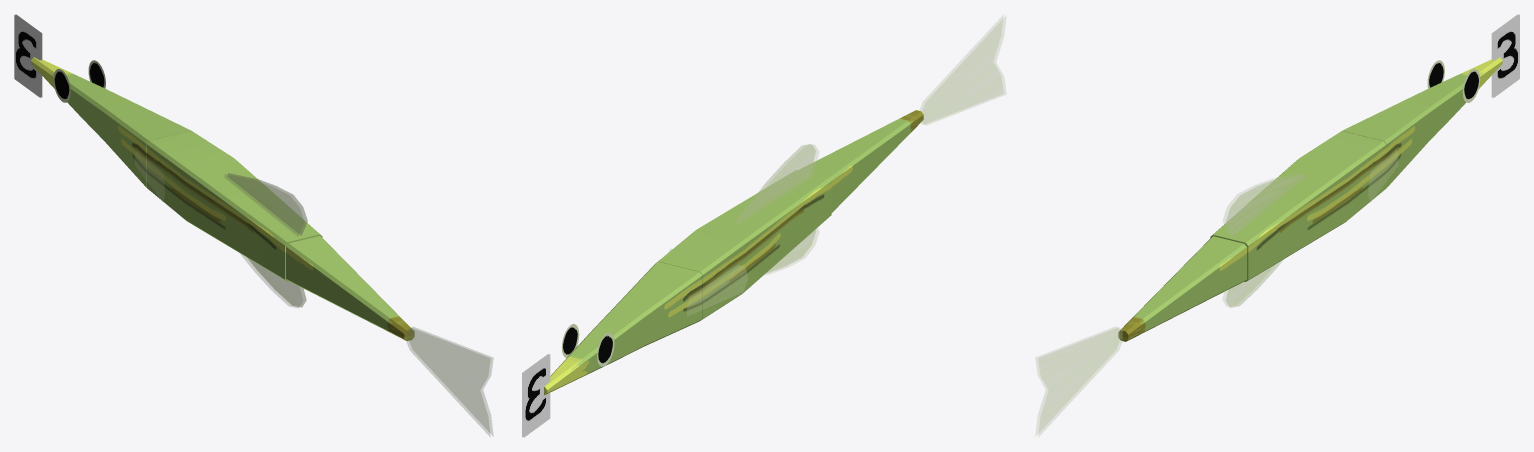
File: TubeSnoutFish.fbx
The picture shows the model from 3 angles, left to right: view 1: azimuth 30°, elevation 25°; view 2: azimuth 150°, elevation 25°; view 3: azimuth 330°, elevation 25°; orthographic projection.
Visible parts, largest first — view 1: mid, tail, polySurface9, polySurface8; view 2: mid, polySurface9, tail, polySurface8; view 3: mid, tail, polySurface9, polySurface10.
Part boxes in pixels (x1,y1,x2,y2): mid: [147, 131, 322, 307]; tail: [286, 235, 493, 436]; polySurface9: [31, 57, 191, 201]; polySurface8: [14, 15, 40, 97]; mid: [658, 144, 831, 319]; polySurface9: [544, 248, 747, 395]; tail: [799, 14, 1006, 212]; polySurface8: [523, 354, 550, 437]; mid: [1210, 131, 1386, 307]; tail: [1035, 236, 1246, 437]; polySurface9: [1342, 57, 1502, 202]; polySurface10: [1493, 14, 1519, 97].
Bounding box in the file's own units: 0.0466 × 0.0664 × 0.5189.
3 materials, 3 textured.
